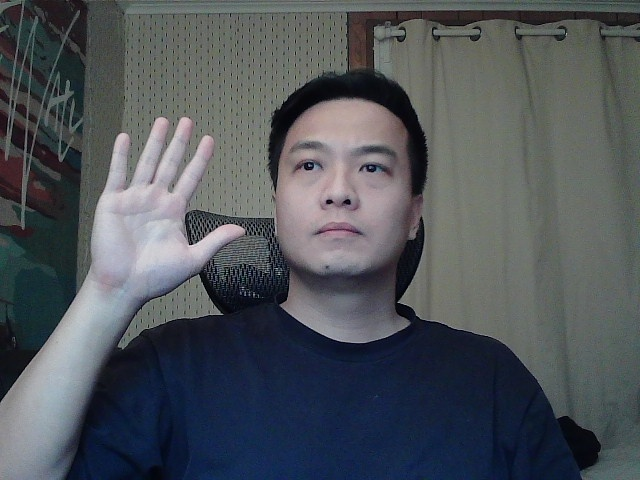Hello: (85, 102, 258, 302)
